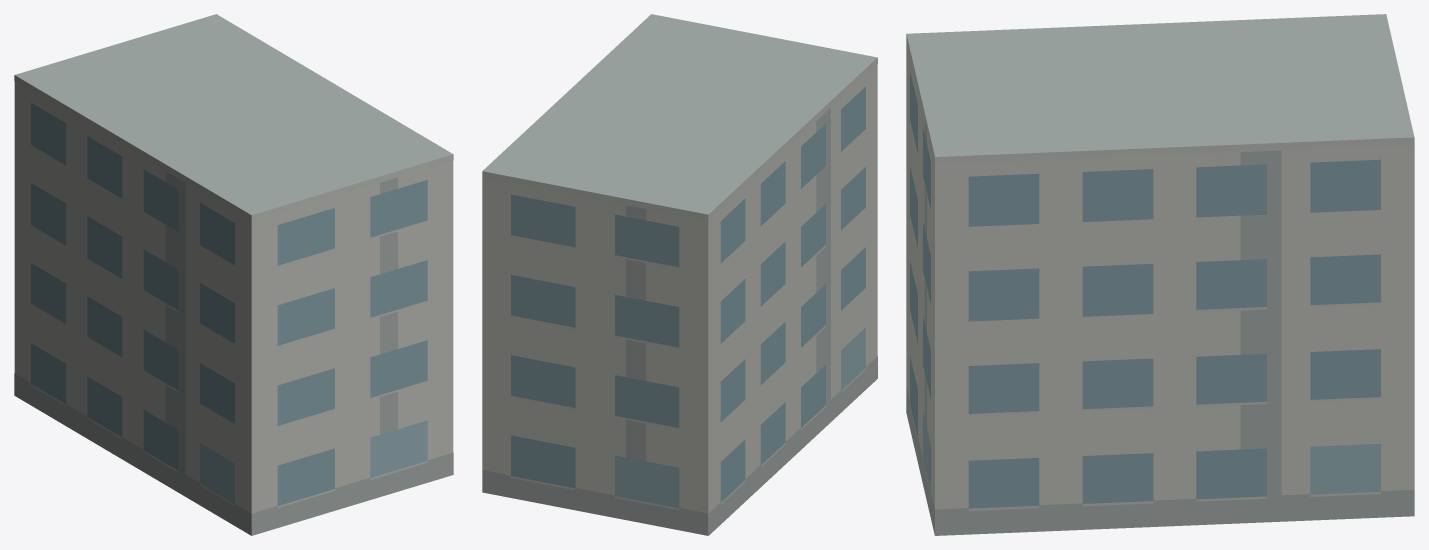
File: residential-5fe25133-e703-4c18-a292-a56e41532612.glb
3 views of the same model, side by side, from view 1: azimuth 30°, elevation 25°; view 2: azimuth 150°, elevation 25°; view 3: azimuth 270°, elevation 25° (orthographic). The views are drawn at different scales.
Parts seen in each view (by area): view 1: residential-5fe25133-e703-4c18-a292-a56e41532612.tmp; view 2: residential-5fe25133-e703-4c18-a292-a56e41532612.tmp; view 3: residential-5fe25133-e703-4c18-a292-a56e41532612.tmp.
Part boxes in pixels (left/top/right/bottom): residential-5fe25133-e703-4c18-a292-a56e41532612.tmp: left=14, top=14, right=453, bottom=535; residential-5fe25133-e703-4c18-a292-a56e41532612.tmp: left=482, top=14, right=877, bottom=535; residential-5fe25133-e703-4c18-a292-a56e41532612.tmp: left=906, top=14, right=1414, bottom=535.
Bounding box in the file's own units: 9.89 × 12.2 × 14.84.
